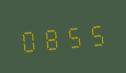eight: (40, 22, 61, 53)
five: (62, 20, 83, 51), (84, 18, 105, 49)
zero: (18, 23, 39, 54)
